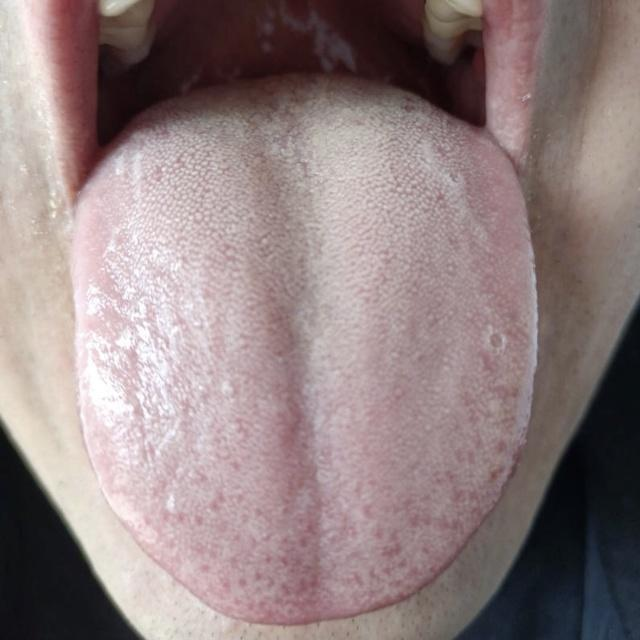baitaishe: (69, 75, 540, 626)
pangdashe: (69, 75, 540, 626)
